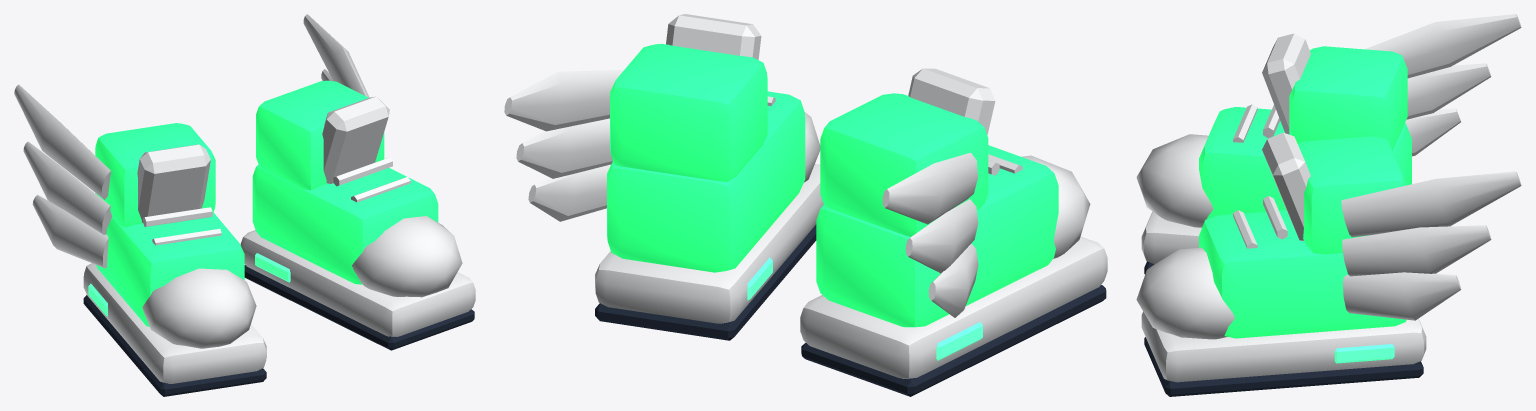
The model's file is powerup_zapatillas.glb.
3 views of the same model, side by side, from view 1: azimuth 30°, elevation 25°; view 2: azimuth 150°, elevation 25°; view 3: azimuth 270°, elevation 25° (orthographic). The views are drawn at different scales.
Visible parts, largest first — view 1: PowerUp_Zapatillas; view 2: PowerUp_Zapatillas; view 3: PowerUp_Zapatillas.
Part boxes in pixels (x1,y1,x2,y2): PowerUp_Zapatillas: (14,14,475,396); PowerUp_Zapatillas: (504,14,1107,396); PowerUp_Zapatillas: (1136,14,1521,396).
Size of the model in its own units: 0.9336 by 0.5553 by 0.8801.
